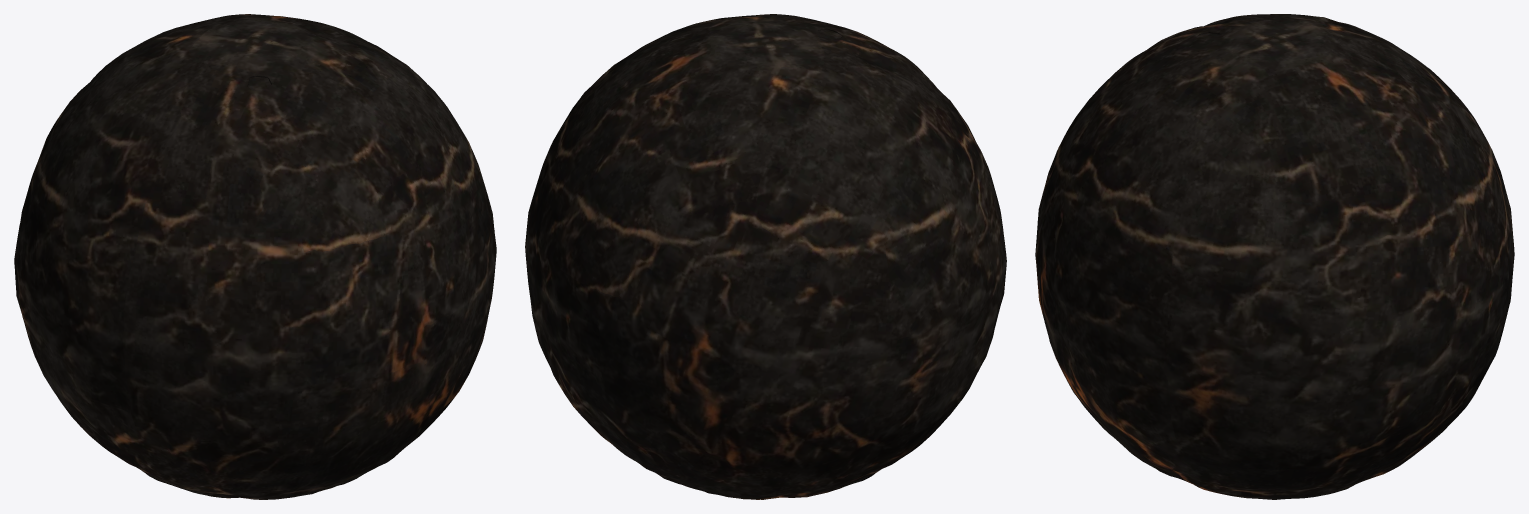
File: proto_earth.glb
3 renders of one model, left to right at view 1: azimuth 30°, elevation 25°; view 2: azimuth 150°, elevation 25°; view 3: azimuth 270°, elevation 25°, orthographic.
Visible parts, largest first — view 1: world; view 2: world; view 3: world.
Boxes of the visible parts, <box> form: world: <box>14,14,496,499</box>; world: <box>525,14,1006,499</box>; world: <box>1035,14,1514,499</box>.
Size of the model in its own units: 0.15 by 0.1489 by 0.1495.
1 material, 1 textured.
